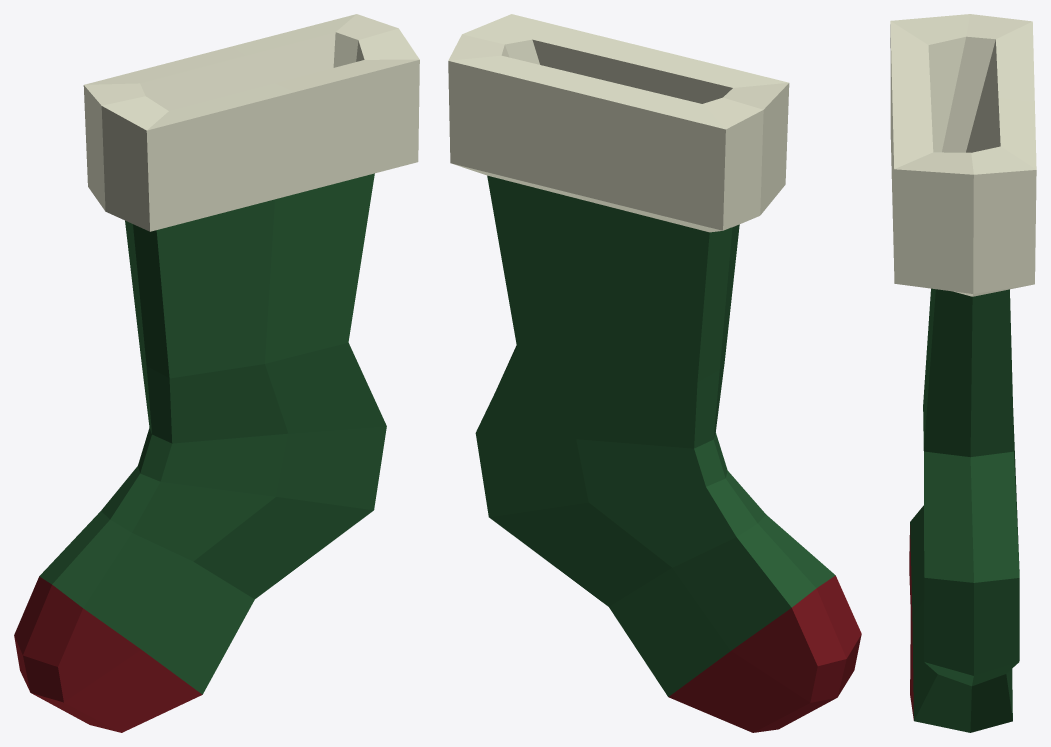
Rendered from Stocking_simple.fbx.
The picture shows the model from 3 angles, left to right: view 1: azimuth 30°, elevation 25°; view 2: azimuth 150°, elevation 25°; view 3: azimuth 270°, elevation 25°; orthographic projection. The views are drawn at different scales.
Parts seen in each view (by area): view 1: Stocking_simple; view 2: Stocking_simple; view 3: Stocking_simple.
Boxes of the visible parts, box(x1,y1,x2,y2) form: Stocking_simple: box(14, 14, 419, 732); Stocking_simple: box(448, 14, 861, 732); Stocking_simple: box(890, 14, 1036, 732).
Bounding box in the file's own units: 0.154 × 0.2398 × 0.0455.
